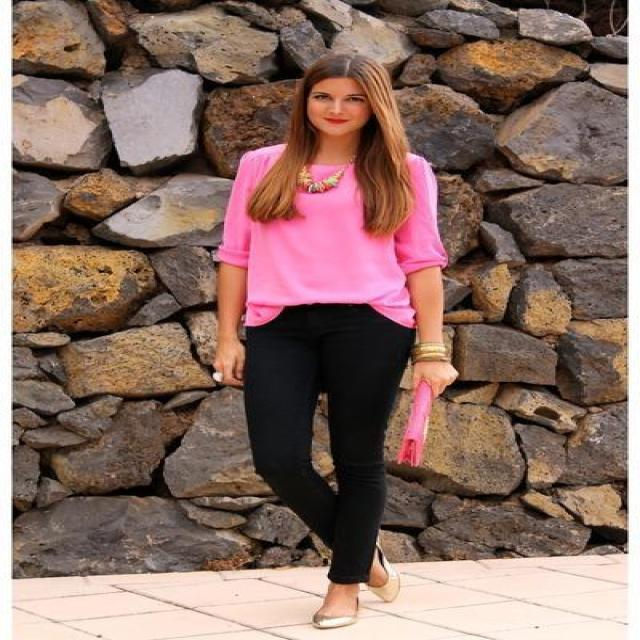pants: (232, 303, 442, 586)
shirt: (213, 144, 442, 325)
shoe: (326, 609, 366, 639)
